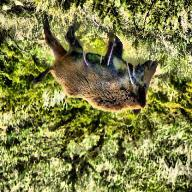boar: (28, 28, 170, 121)
